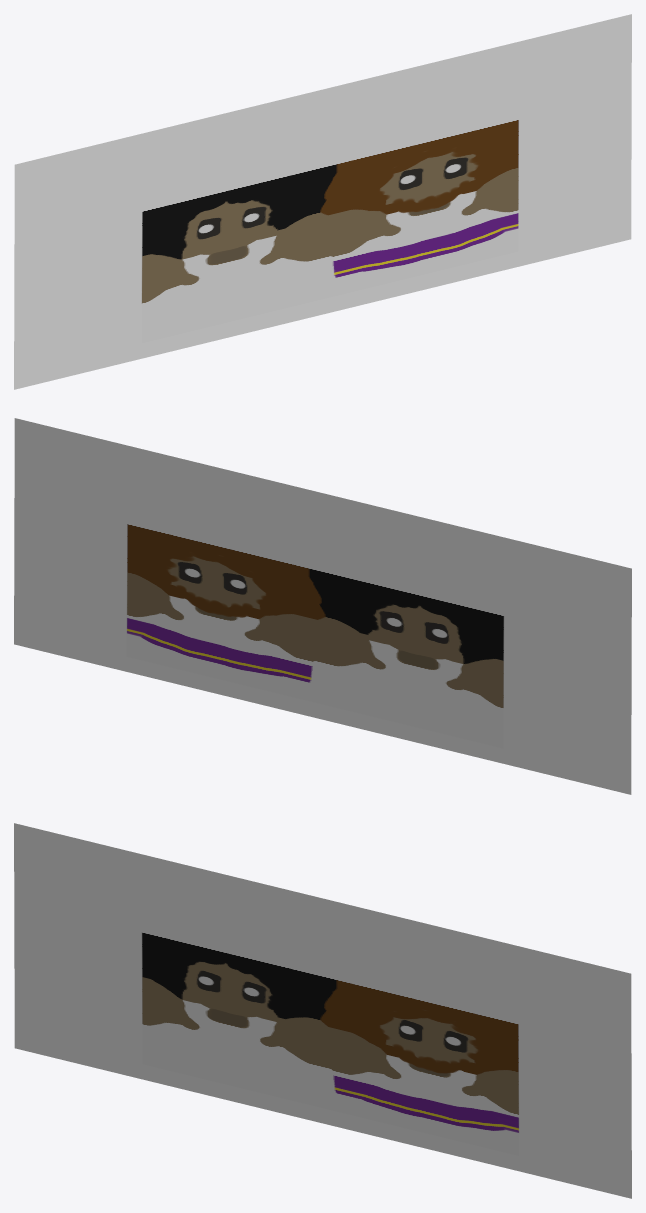
The model's file is CrowdTextured.fbx.
3 views of the same model, one above another, from view 1: azimuth 30°, elevation 25°; view 2: azimuth 150°, elevation 25°; view 3: azimuth 330°, elevation 25° (orthographic).
Parts seen in each view (by area): view 1: pasted__pPlane52; view 2: pasted__pPlane52; view 3: pasted__pPlane52.
Boxes of the visible parts, <box> form: pasted__pPlane52: <box>14,14,631,389</box>; pasted__pPlane52: <box>14,418,631,794</box>; pasted__pPlane52: <box>14,823,631,1198</box>.
Bounding box in the file's own units: 2.86 × 1 × 0.0062.
Materials: 1 (1 with a texture image).
